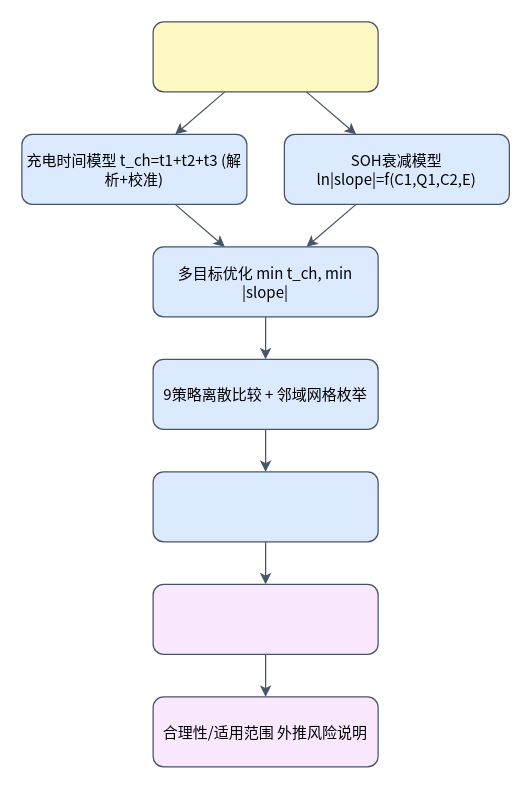
Some shapes in this 531 by 789 pixel diagram are drawn without their labels. The centre of each missing label's shape, as x and y in pixels:
Pareto前沿 + 加权综合得分: point 265,506
推荐策略 (C1=5.8,Q1=64,C2=4.5): point 265,618
输入: 问题2衰减规律 问题3预测模型 + 数据: point 265,56
